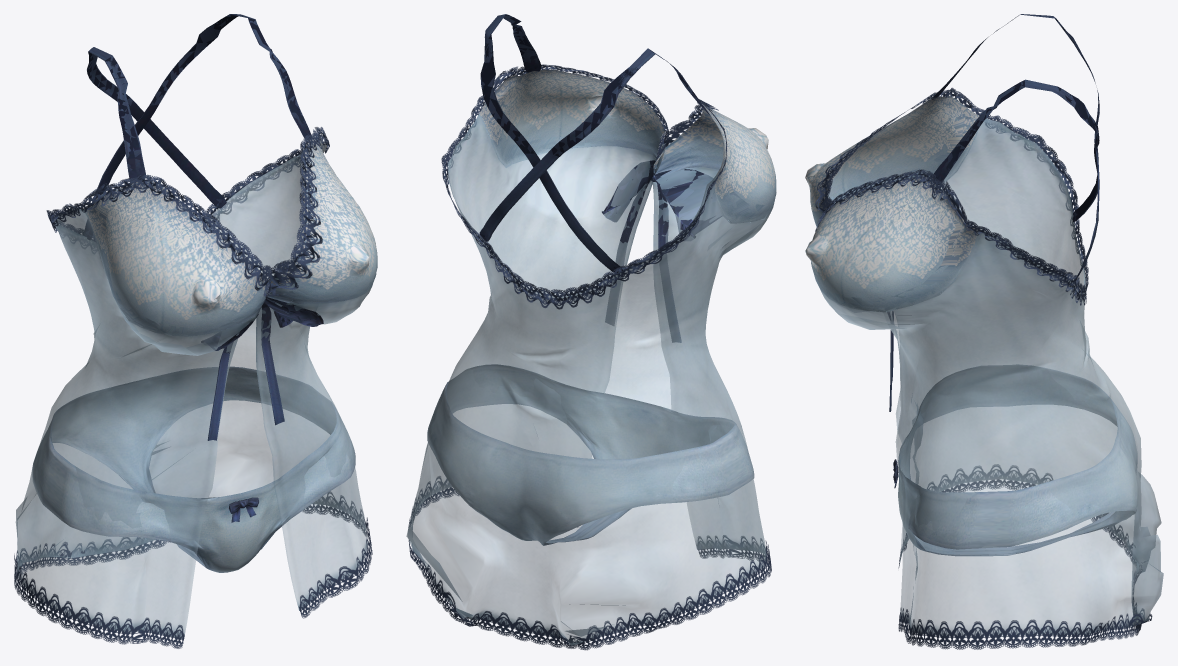
The model's file is ada-top.glb.
The picture shows the model from 3 angles, left to right: view 1: azimuth 30°, elevation 25°; view 2: azimuth 150°, elevation 25°; view 3: azimuth 270°, elevation 25°; orthographic projection.
Visible parts, largest first — view 1: Lingerie_Upper, Lingerie_Lower, Lace_Trim; view 2: Lingerie_Upper, Lingerie_Lower, Lace_Trim; view 3: Lingerie_Upper, Lingerie_Lower, Lace_Trim.
Part boxes in pixels (x1,y1,x2,y2): Lingerie_Upper: (15, 14, 377, 638); Lingerie_Lower: (32, 366, 355, 572); Lace_Trim: (14, 127, 372, 648); Lingerie_Upper: (406, 14, 776, 646); Lingerie_Lower: (427, 364, 754, 545); Lace_Trim: (408, 64, 771, 650); Lingerie_Upper: (805, 14, 1163, 636); Lingerie_Lower: (893, 364, 1137, 556); Lace_Trim: (815, 87, 1152, 649).
Size of the model in its own units: 0.3856 by 0.6387 by 0.366.
3 materials, 3 textured.
